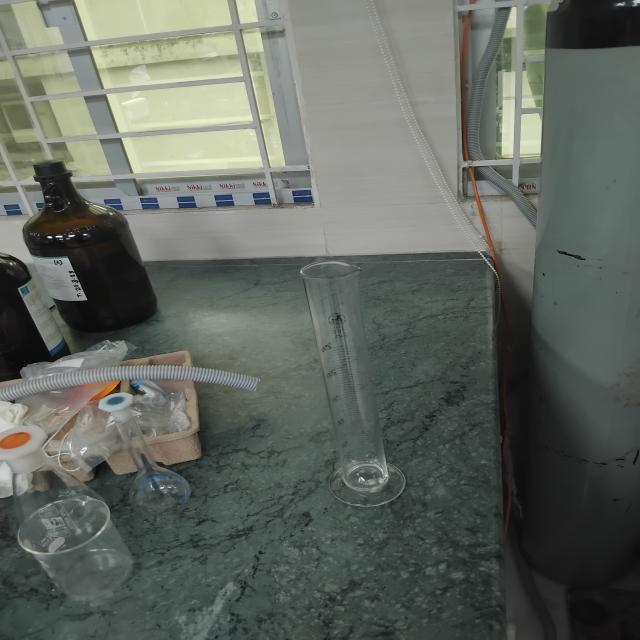Beaker: (13, 483, 153, 611)
Measuring_Cylinder: (263, 199, 427, 525)
